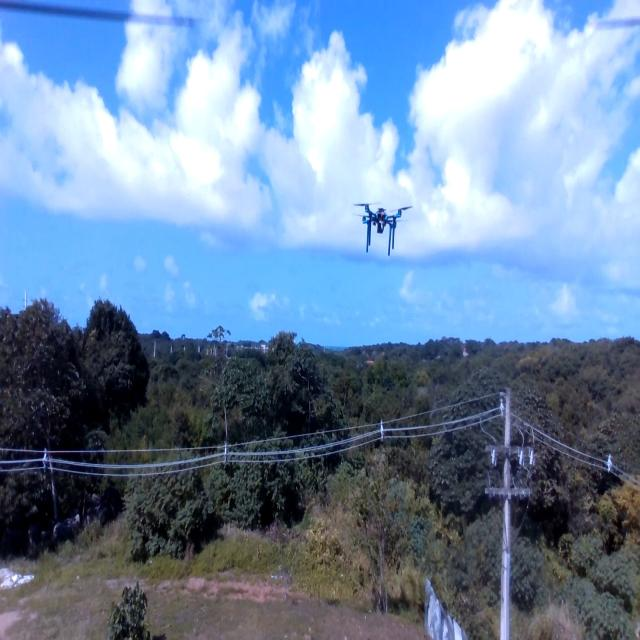-uav-: (343, 188, 422, 264)
